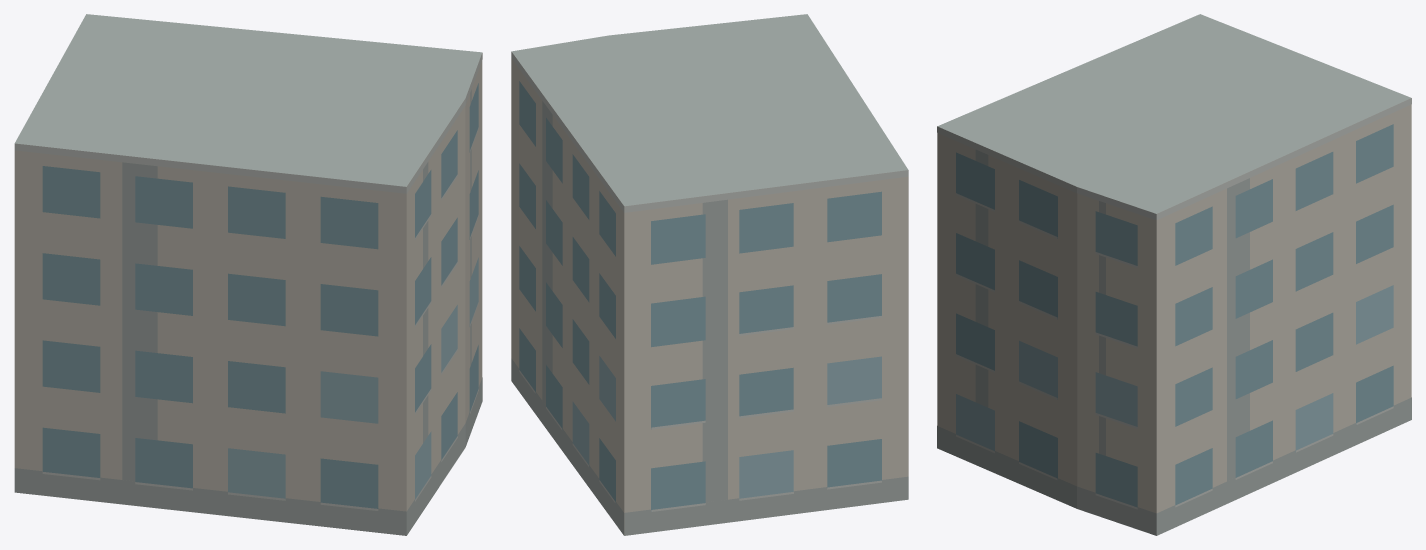
The model's file is survey-upis-32497823.glb.
The picture shows the model from 3 angles, left to right: view 1: azimuth 30°, elevation 25°; view 2: azimuth 150°, elevation 25°; view 3: azimuth 270°, elevation 25°; orthographic projection. The views are drawn at different scales.
Visible parts, largest first — view 1: survey-upis-32497823.tmp; view 2: survey-upis-32497823.tmp; view 3: survey-upis-32497823.tmp.
Part boxes in pixels (x1,y1,x2,y2): survey-upis-32497823.tmp: (14, 14, 482, 535); survey-upis-32497823.tmp: (511, 14, 908, 535); survey-upis-32497823.tmp: (937, 14, 1411, 535).
Size of the model in its own units: 16.26 by 12.2 by 16.31.
